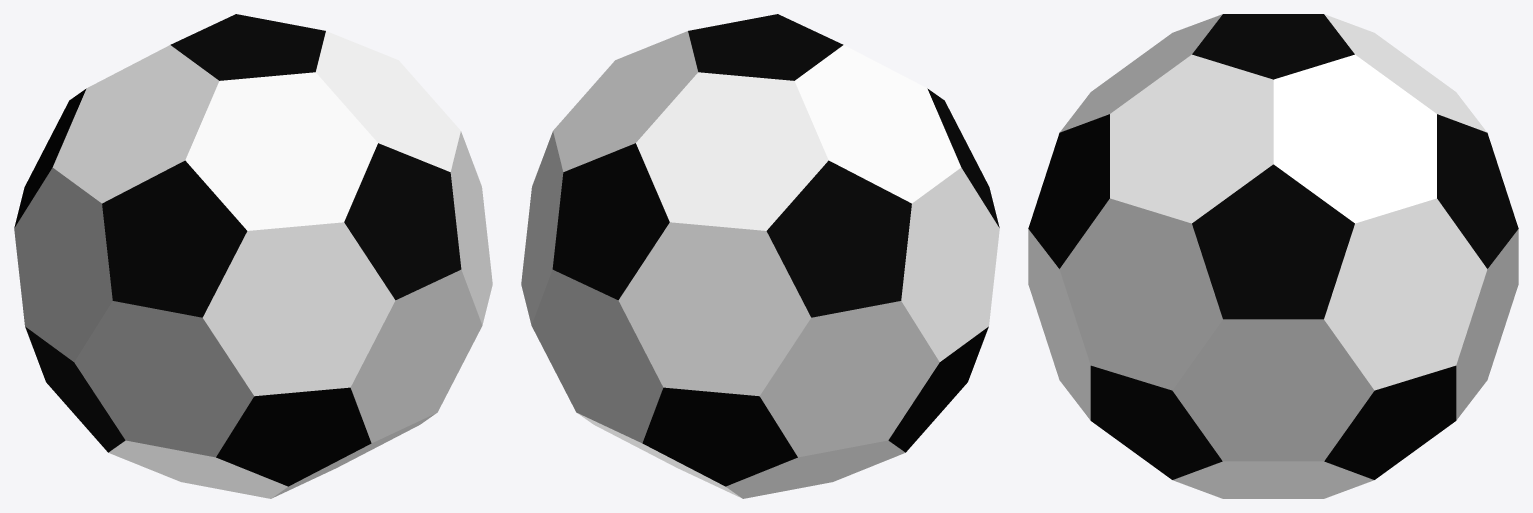
The model's file is Pelota.fbx.
The picture shows the model from 3 angles, left to right: view 1: azimuth 30°, elevation 25°; view 2: azimuth 150°, elevation 25°; view 3: azimuth 270°, elevation 25°; orthographic projection. The views are drawn at different scales.
Parts seen in each view (by area): view 1: Esfera geodésica; view 2: Esfera geodésica; view 3: Esfera geodésica.
Boxes of the visible parts, x1,y1,x2,y2 form: Esfera geodésica: (14, 14, 492, 498); Esfera geodésica: (521, 14, 999, 498); Esfera geodésica: (1028, 14, 1518, 498).
Size of the model in its own units: 168 by 163 by 170.
